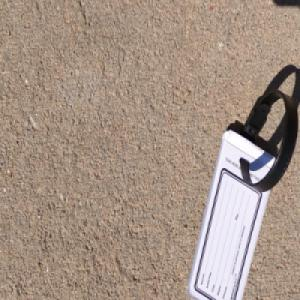LuggageTag: (186, 90, 298, 300)
